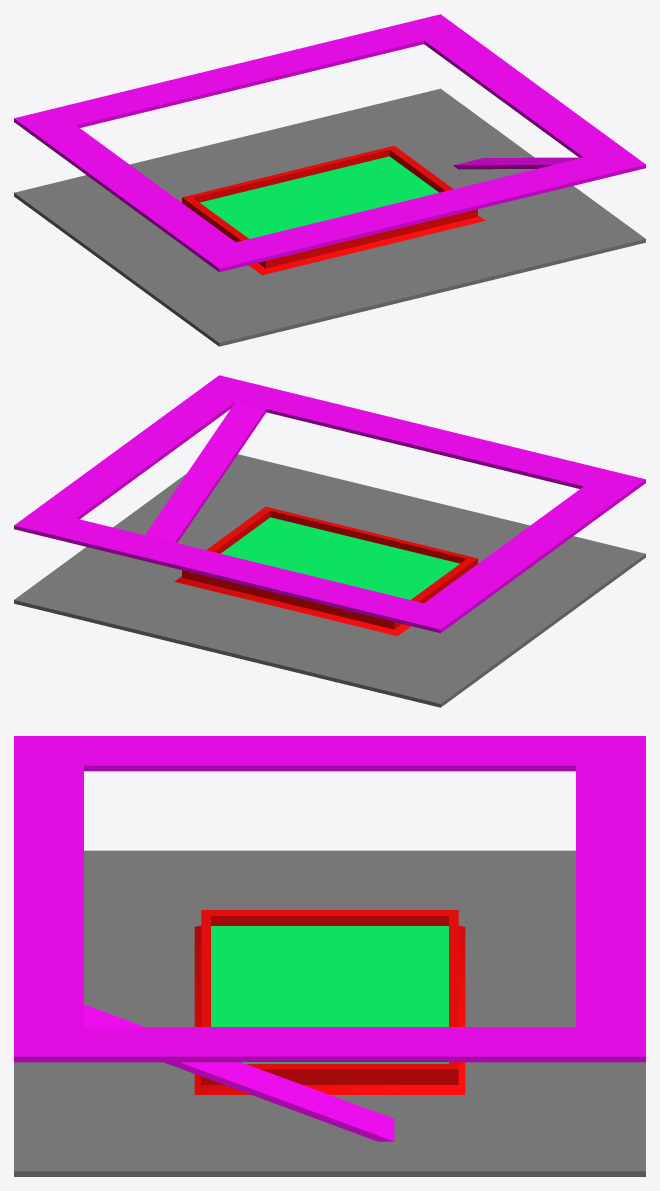
The model's file is 652_floors.fbx.
3 renders of one model, top to bottom at view 1: azimuth 30°, elevation 25°; view 2: azimuth 150°, elevation 25°; view 3: azimuth 270°, elevation 25°, orthographic. The views are drawn at different scales.
Visible parts, largest first — view 1: 652_0, 652_1, Object004; view 2: 652_0, 652_1, Object004; view 3: 652_0, 652_1, Object004.
Part boxes in pixels (x1,y1,x2,y2): 652_0: (14, 88, 645, 346); 652_1: (14, 14, 645, 272); Object004: (453, 157, 583, 169); 652_0: (14, 454, 645, 707); 652_1: (14, 375, 645, 633); Object004: (145, 401, 266, 542); 652_0: (14, 850, 645, 1176); 652_1: (14, 736, 645, 1062); Object004: (84, 1004, 394, 1141).
Size of the model in its own units: 600 by 105 by 500.
